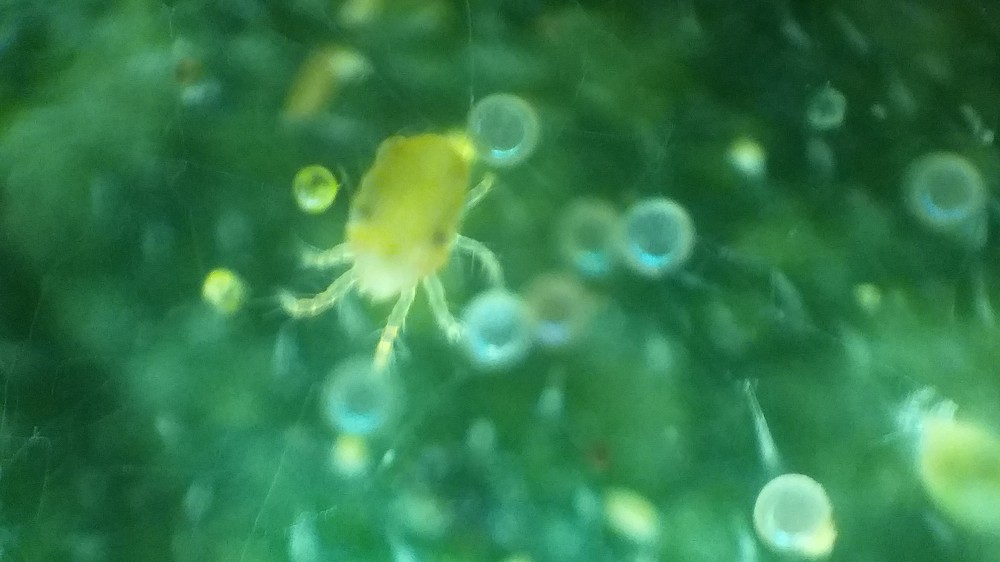Aracnido Rojo: (261, 117, 528, 380)
